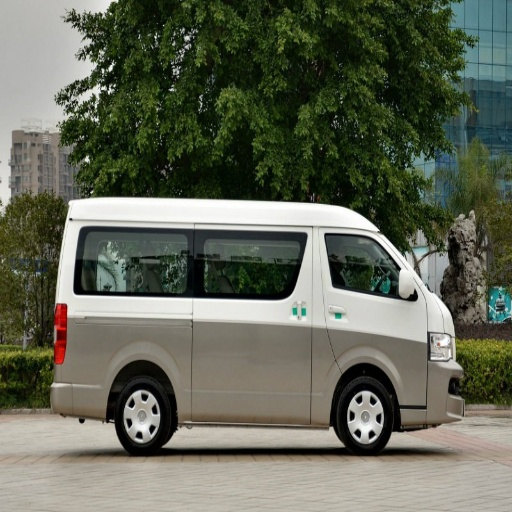back_right_door: (272, 226, 319, 283), (84, 225, 155, 257)
trunk: (59, 298, 223, 413), (300, 301, 447, 417)
